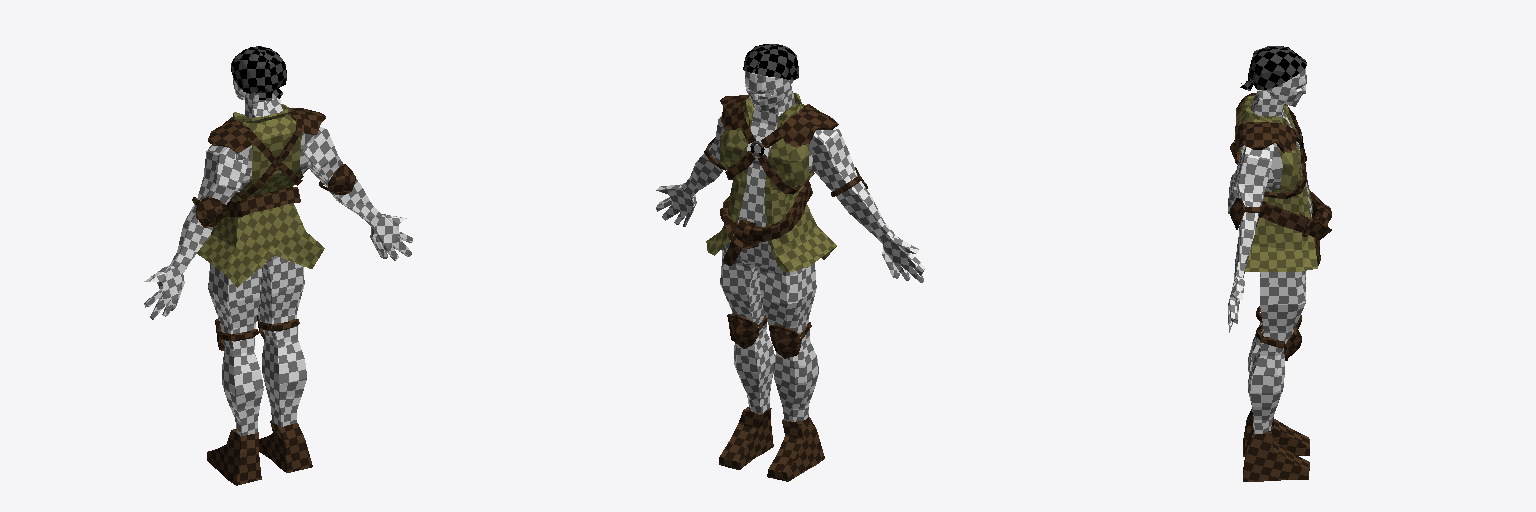
The picture shows the model from 3 angles: view 1: azimuth 30°, elevation 25°; view 2: azimuth 150°, elevation 25°; view 3: azimuth 270°, elevation 25°; orthographic projection.
Visible parts, largest first — view 1: bake; view 2: bake; view 3: bake.
Boxes of the visible parts, box(x1,y1,x2,y2) form: bake: box(144, 46, 412, 485); bake: box(656, 44, 924, 481); bake: box(1228, 46, 1331, 481).
Bounding box in the file's own units: 1.91 × 2.84 × 0.6511.
1 materials, 1 textured.